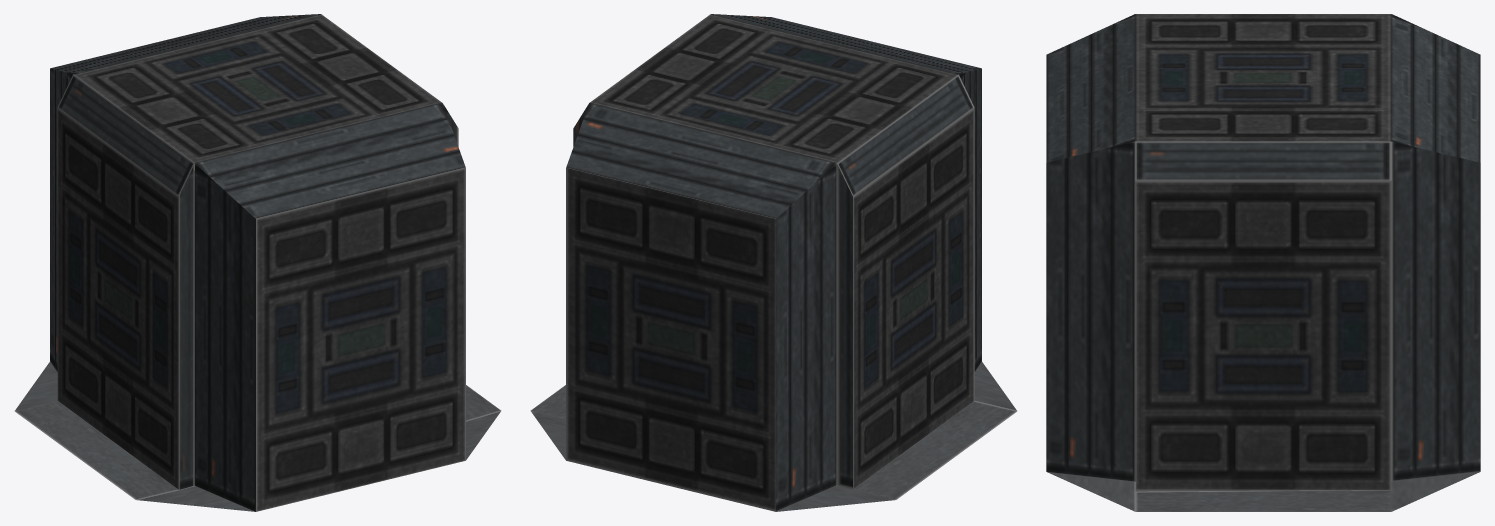
The model's file is CubeBaseFrontColumn5Top.fbx.
The picture shows the model from 3 angles, left to right: view 1: azimuth 30°, elevation 25°; view 2: azimuth 150°, elevation 25°; view 3: azimuth 270°, elevation 25°; orthographic projection. The views are drawn at different scales.
Parts seen in each view (by area): view 1: pCube1; view 2: pCube1; view 3: pCube1.
Part boxes in pixels (bbox=[...]): pCube1: bbox=[14, 14, 501, 511]; pCube1: bbox=[530, 14, 1017, 511]; pCube1: bbox=[1046, 14, 1480, 511].
Bounding box in the file's own units: 1.31 × 1.11 × 1.27.
Materials: 1 (1 with a texture image).
